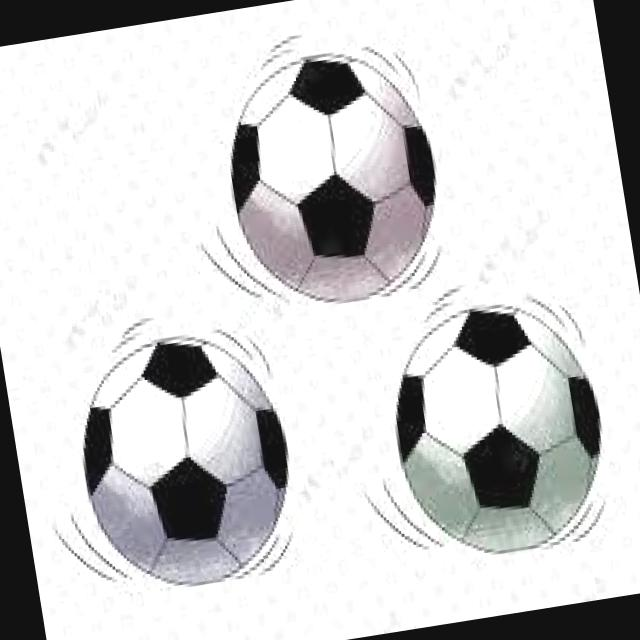Soccer Ball: (217, 38, 458, 320), (382, 295, 622, 573), (70, 316, 302, 600)
